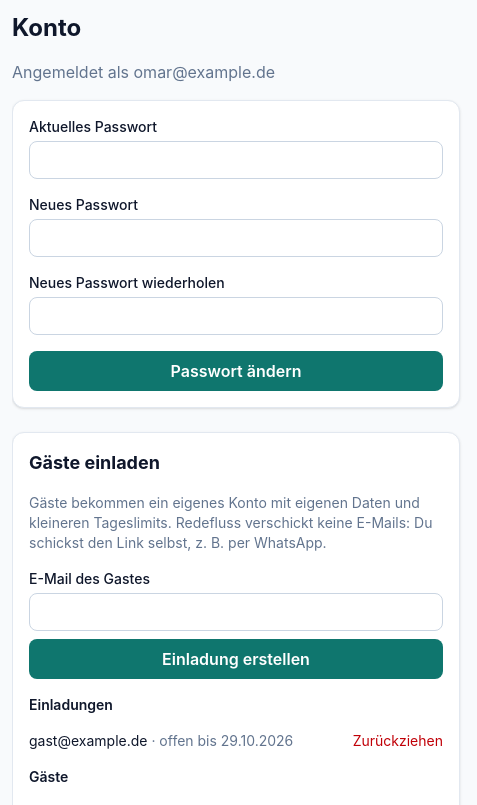
Test: Konto › as owner › withdraws an open invitation
Click the button "Zurückziehen". click: x=398, y=741
box: [353, 731, 443, 751]
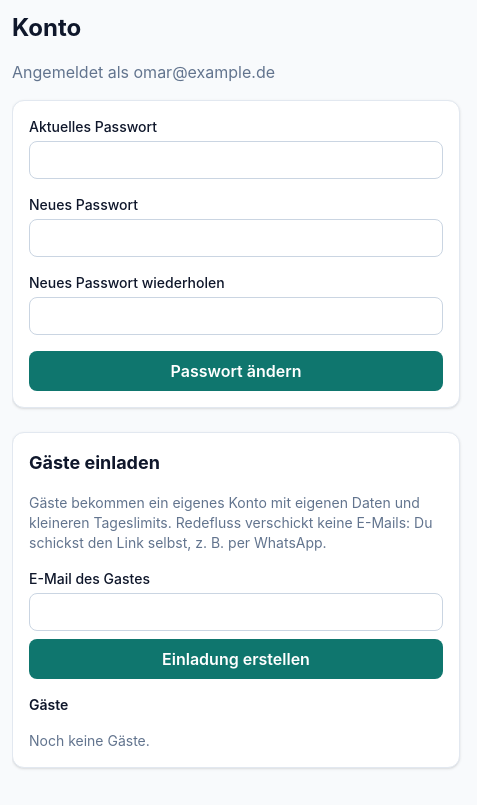
Now the text "gast@example.de" is gone
